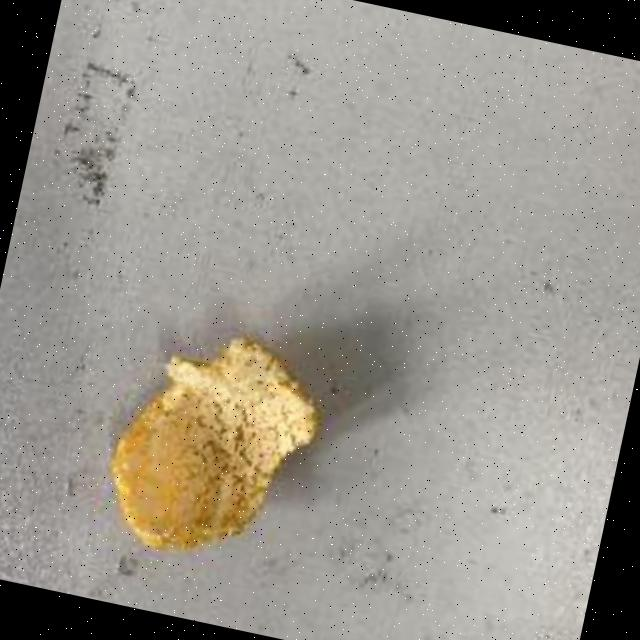orange-peel: (90, 309, 337, 579)
